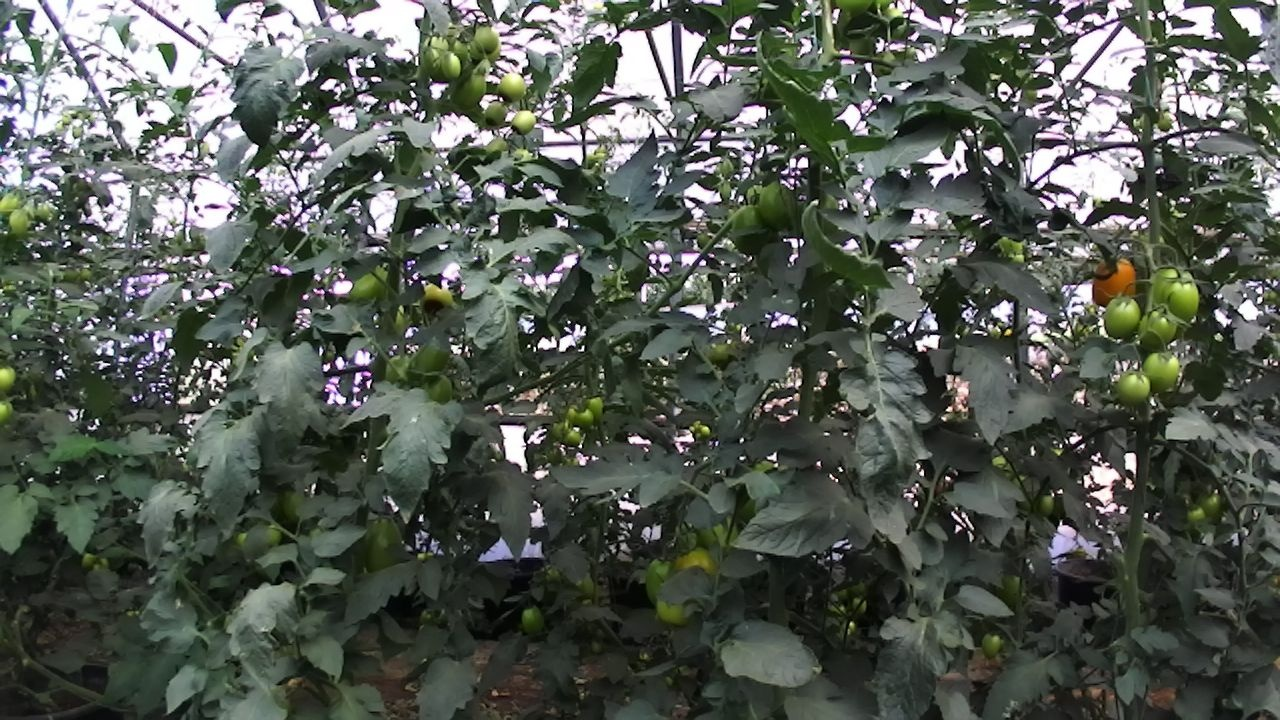tomato: (353, 506, 412, 583), (1084, 250, 1149, 319), (401, 327, 462, 400), (632, 546, 691, 616), (663, 539, 726, 597), (1160, 269, 1210, 336), (1096, 285, 1150, 347), (1129, 299, 1186, 356), (751, 176, 807, 234), (411, 269, 463, 323), (1138, 343, 1187, 398), (1107, 363, 1159, 413), (446, 65, 494, 118), (492, 64, 536, 111), (432, 46, 471, 90), (974, 625, 1013, 666), (516, 602, 555, 642), (468, 20, 506, 60), (505, 104, 544, 141), (479, 94, 516, 133), (552, 421, 588, 450), (580, 392, 609, 426), (570, 405, 597, 432)
